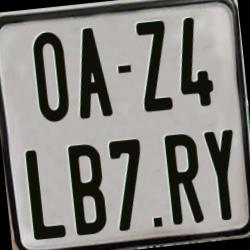0: (31, 30, 74, 126)
4: (174, 15, 218, 111)
7: (108, 138, 152, 234)
A: (70, 25, 115, 118)
B: (67, 143, 107, 238)
L: (23, 147, 67, 240)
R: (164, 132, 206, 225)
Y: (202, 129, 244, 222)
Z: (134, 20, 172, 112)
